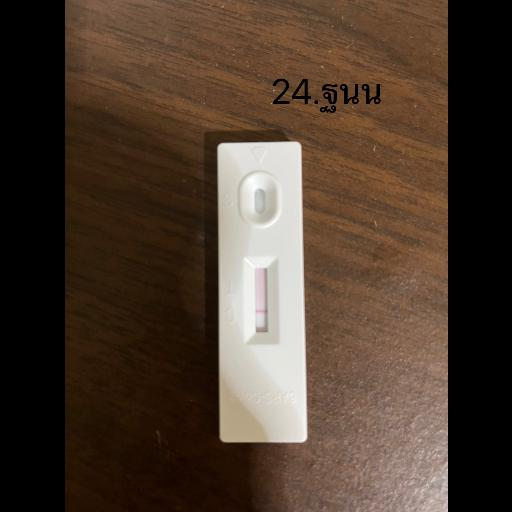Neg: (217, 142, 307, 442)
